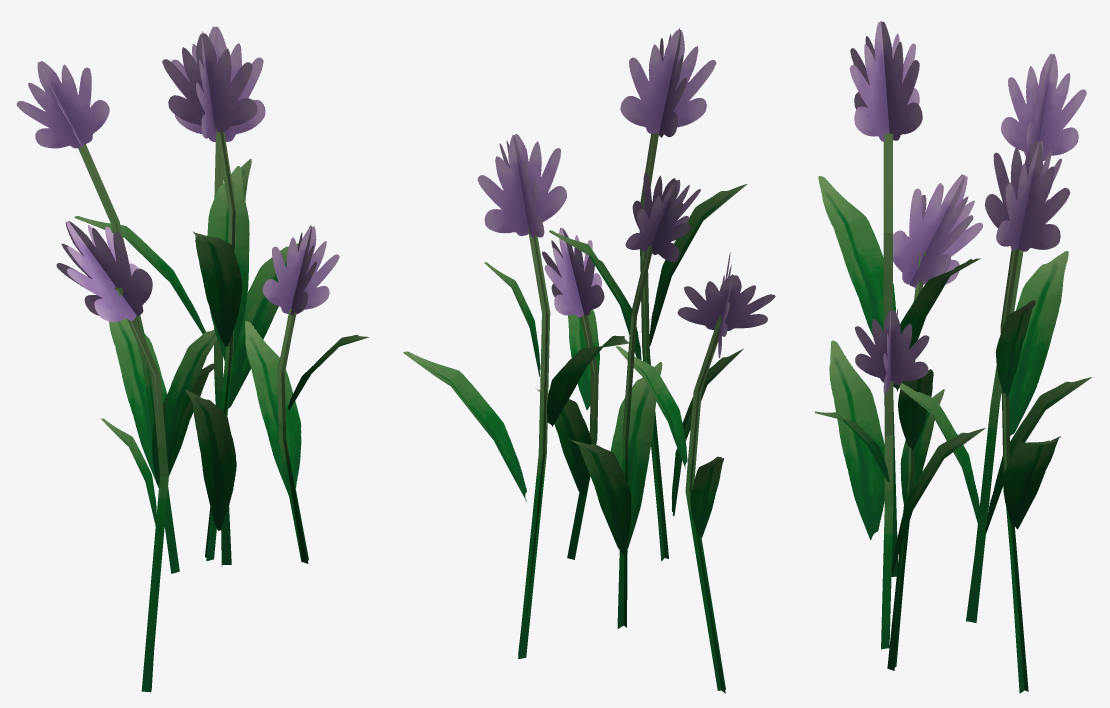
Rendered from SM_Lilas.fbx.
3 views of the same model, side by side, from view 1: azimuth 30°, elevation 25°; view 2: azimuth 150°, elevation 25°; view 3: azimuth 270°, elevation 25° (orthographic). The views are drawn at different scales.
Parts seen in each view (by area): view 1: Lilas3; view 2: Lilas3; view 3: Lilas3.
Part boxes in pixels (bbox=[...]): Lilas3: bbox=[16, 26, 369, 692]; Lilas3: bbox=[403, 28, 775, 693]; Lilas3: bbox=[814, 21, 1091, 693].
Bounding box in the file's own units: 83.38 × 165 × 62.27.
1 material, 1 textured.
